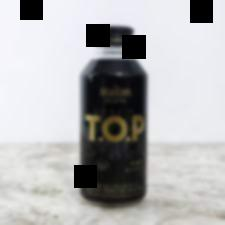TOP_black: (78, 20, 149, 208)
